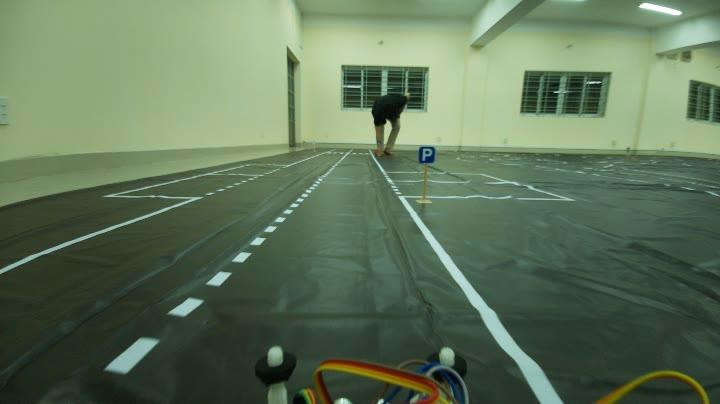parking: (414, 140, 442, 170)
